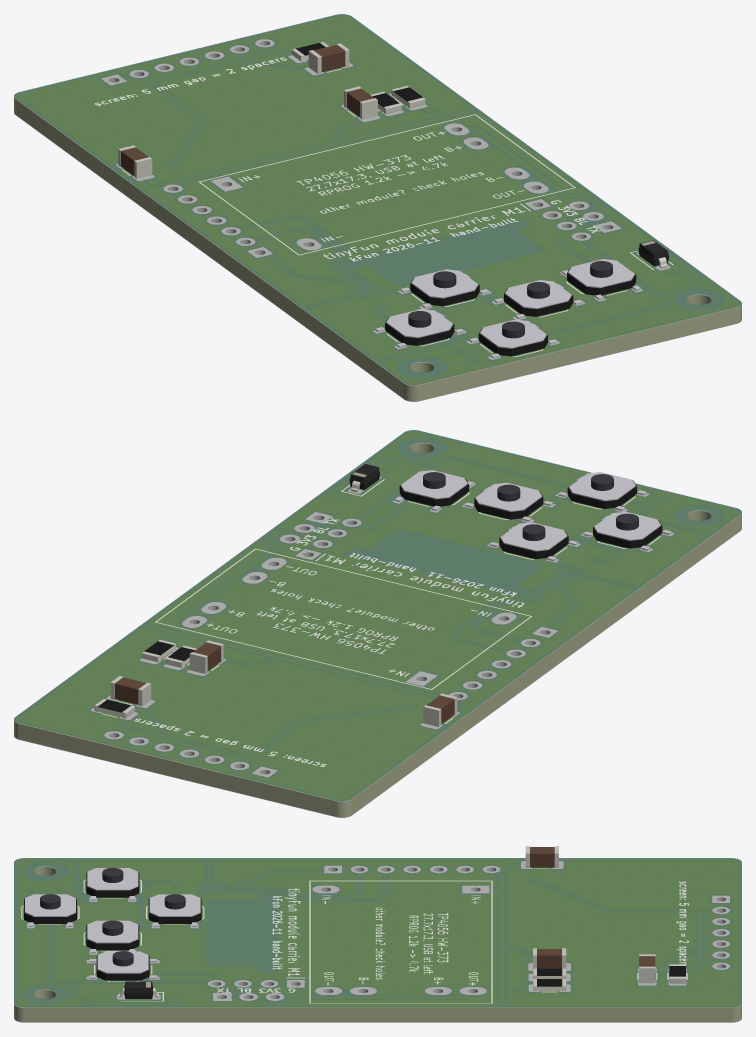
Rendered from board.glb.
3 views of the same model, one above another, from view 1: azimuth 30°, elevation 25°; view 2: azimuth 150°, elevation 25°; view 3: azimuth 270°, elevation 25° (orthographic). The views are drawn at different scales.
Visible parts, largest first — view 1: =>[0:1:1:15], =>[0:1:1:10], =>[0:1:1:17], =>[0:1:1:3] (×5), =>[0:1:1:11], =>[0:1:1:13], =>[0:1:1:5] (×3), =>[0:1:1:16]; view 2: =>[0:1:1:15], =>[0:1:1:10], =>[0:1:1:17], =>[0:1:1:3] (×5), =>[0:1:1:11], =>[0:1:1:13], =>[0:1:1:5] (×3), =>[0:1:1:16]; view 3: =>[0:1:1:15], =>[0:1:1:10], =>[0:1:1:17], =>[0:1:1:3] (×5), =>[0:1:1:11], =>[0:1:1:13], =>[0:1:1:5] (×3), =>[0:1:1:7] (×3), =>[0:1:1:16], =>[0:1:1:9].
Part boxes in pixels (left/top/right/bottom): =>[0:1:1:15]: left=14, top=14, right=741, bottom=385; =>[0:1:1:10]: left=18, top=16, right=737, bottom=383; =>[0:1:1:17]: left=14, top=15, right=741, bottom=401; =>[0:1:1:3] (×5): left=375, top=259, right=641, bottom=358; =>[0:1:1:11]: left=101, top=39, right=670, bottom=359; =>[0:1:1:13]: left=94, top=57, right=673, bottom=356; =>[0:1:1:5] (×3): left=118, top=43, right=377, bottom=178; =>[0:1:1:16]: left=14, top=113, right=741, bottom=401; =>[0:1:1:15]: left=14, top=430, right=741, bottom=801; =>[0:1:1:10]: left=18, top=432, right=737, bottom=799; =>[0:1:1:17]: left=14, top=431, right=741, bottom=817; =>[0:1:1:3] (×5): left=394, top=470, right=671, bottom=561; =>[0:1:1:11]: left=90, top=476, right=674, bottom=777; =>[0:1:1:13]: left=101, top=479, right=660, bottom=766; =>[0:1:1:5] (×3): left=110, top=640, right=457, bottom=726; =>[0:1:1:16]: left=14, top=529, right=741, bottom=817; =>[0:1:1:15]: left=14, top=858, right=741, bottom=1007; =>[0:1:1:10]: left=17, top=860, right=738, bottom=1005; =>[0:1:1:17]: left=14, top=859, right=741, bottom=1022; =>[0:1:1:3] (×5): left=24, top=867, right=201, bottom=980; =>[0:1:1:11]: left=27, top=861, right=729, bottom=1000; =>[0:1:1:13]: left=21, top=868, right=689, bottom=1003; =>[0:1:1:5] (×3): left=525, top=846, right=655, bottom=983; =>[0:1:1:7] (×3): left=533, top=964, right=685, bottom=991; =>[0:1:1:16]: left=14, top=1018, right=741, bottom=1022; =>[0:1:1:9]: left=119, top=981, right=158, bottom=998.
Bounding box in the file's own units: 0.034 × 0.00327 × 0.07.
